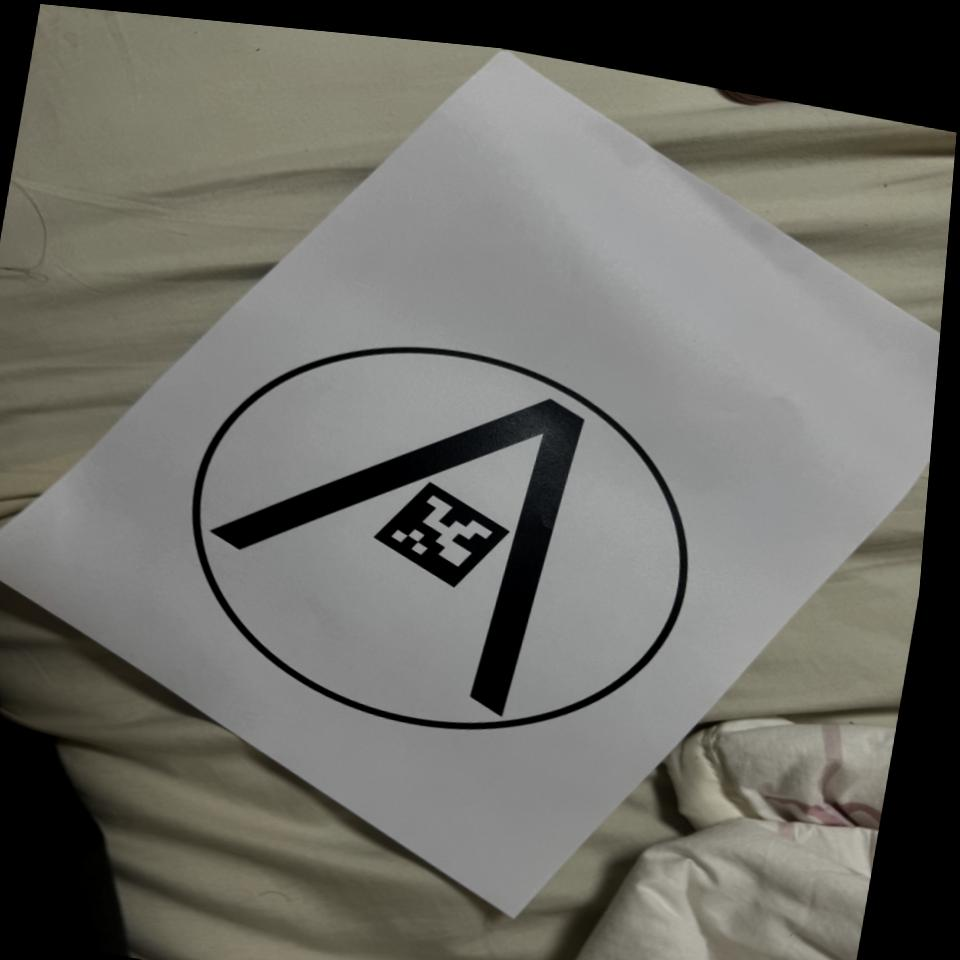vertiport: (145, 298, 735, 781)
